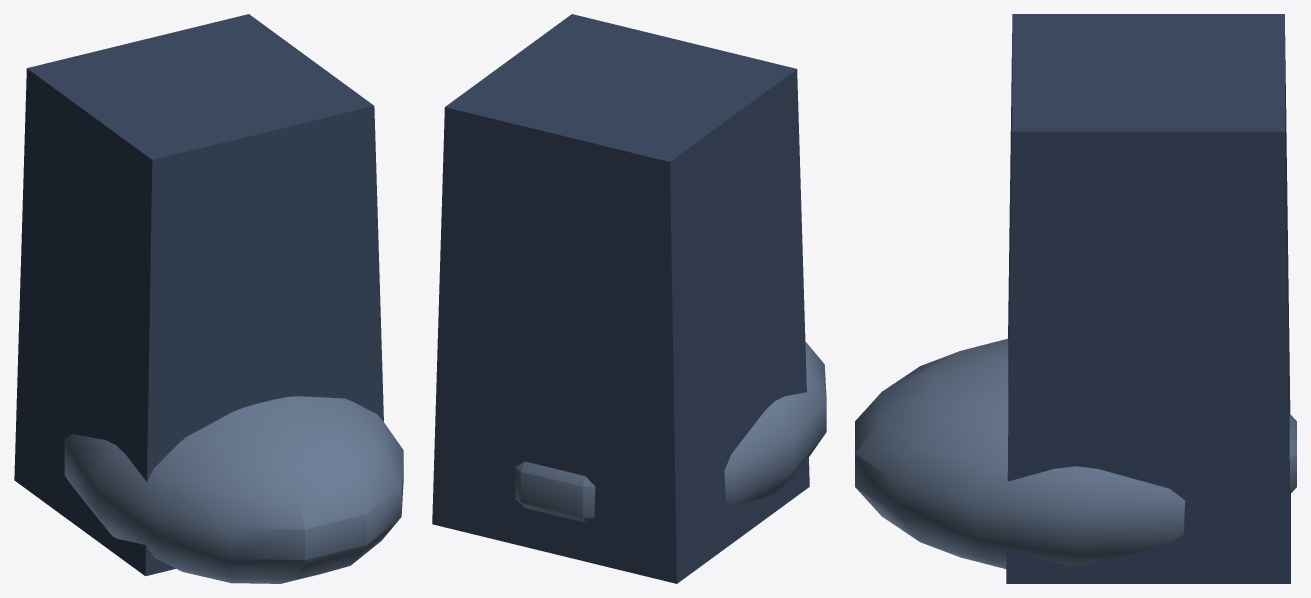
File: LeftLeg.glb
3 views of the same model, side by side, from view 1: azimuth 30°, elevation 25°; view 2: azimuth 150°, elevation 25°; view 3: azimuth 270°, elevation 25° (orthographic). The views are drawn at different scales.
Visible parts, largest first — view 1: leg, toe; view 2: leg, toe; view 3: leg, toe.
Part boxes in pixels (<box>): leg: <box>14,14,383,576</box>; toe: <box>64,396,403,583</box>; leg: <box>432,14,809,583</box>; toe: <box>515,341,826,522</box>; leg: <box>1006,14,1290,583</box>; toe: <box>855,338,1296,568</box>.
Bounding box in the file's own units: 1.17 × 1.77 × 1.49.
